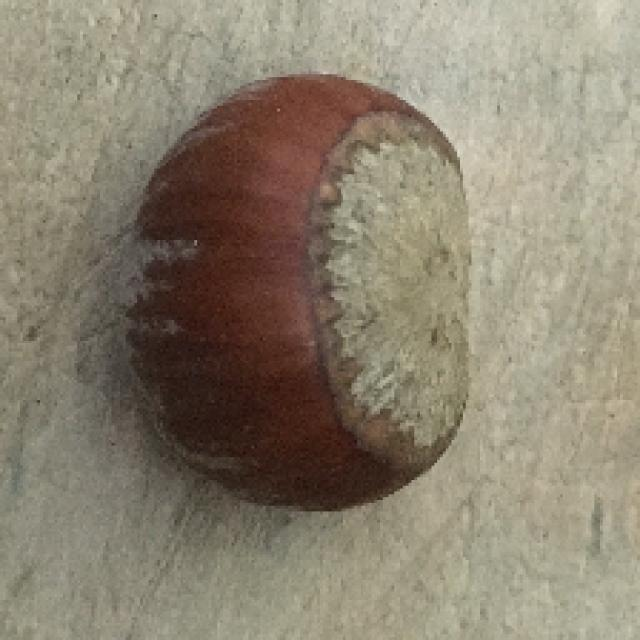QualityHazelnut: (116, 73, 469, 512)
